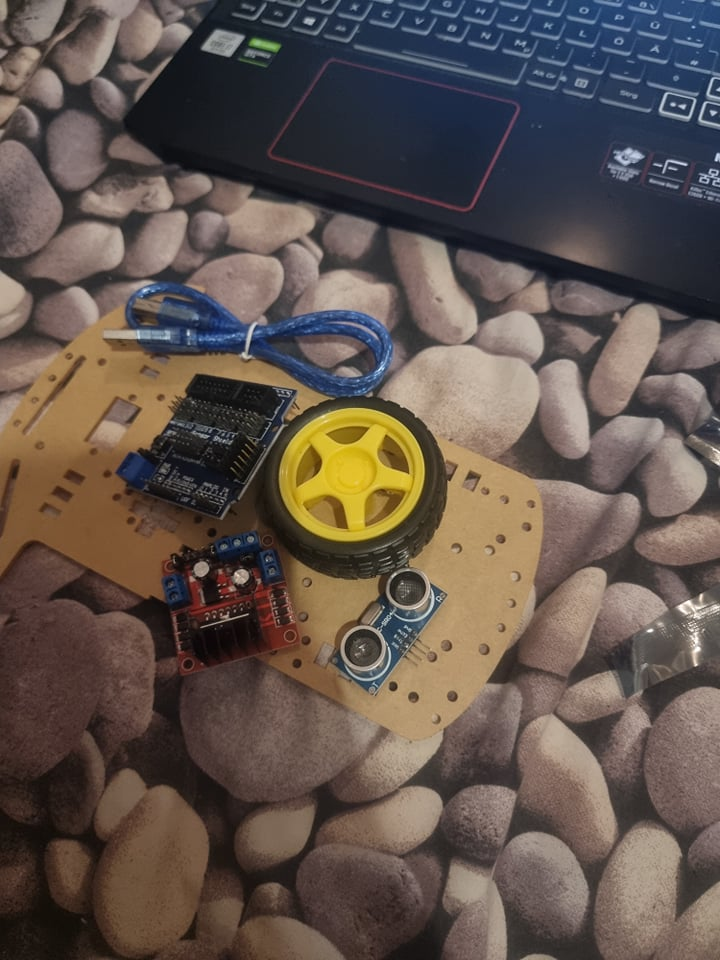5V EXPANSION: (116, 375, 298, 523)
MOTOR: (157, 539, 298, 673)
SENSOR: (334, 564, 443, 698)
